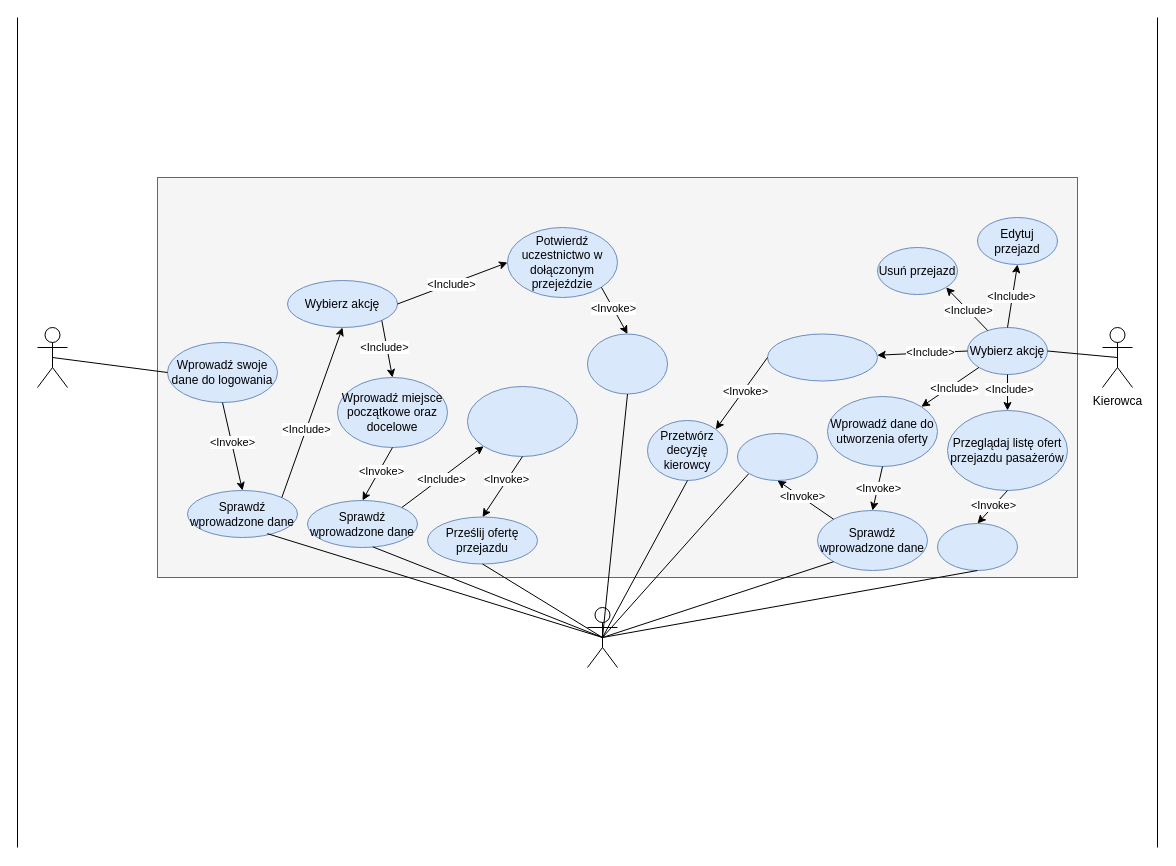
Image size: 1176x866. Some labels were removed from this diagram. Each missing label, with the box of its shape:
Dodaj pasażerów: (936, 522, 1018, 570)
Pasażer: (36, 326, 68, 388)
Potwierdź przejazd: (766, 333, 878, 381)
Przetwórz decyzję pasażera: (586, 333, 668, 394)
System: (586, 606, 618, 668)
Tworzenie oferty: (736, 432, 818, 480)
Wybierz przejazd i zarezerwuj miejsce: (466, 386, 578, 456)
